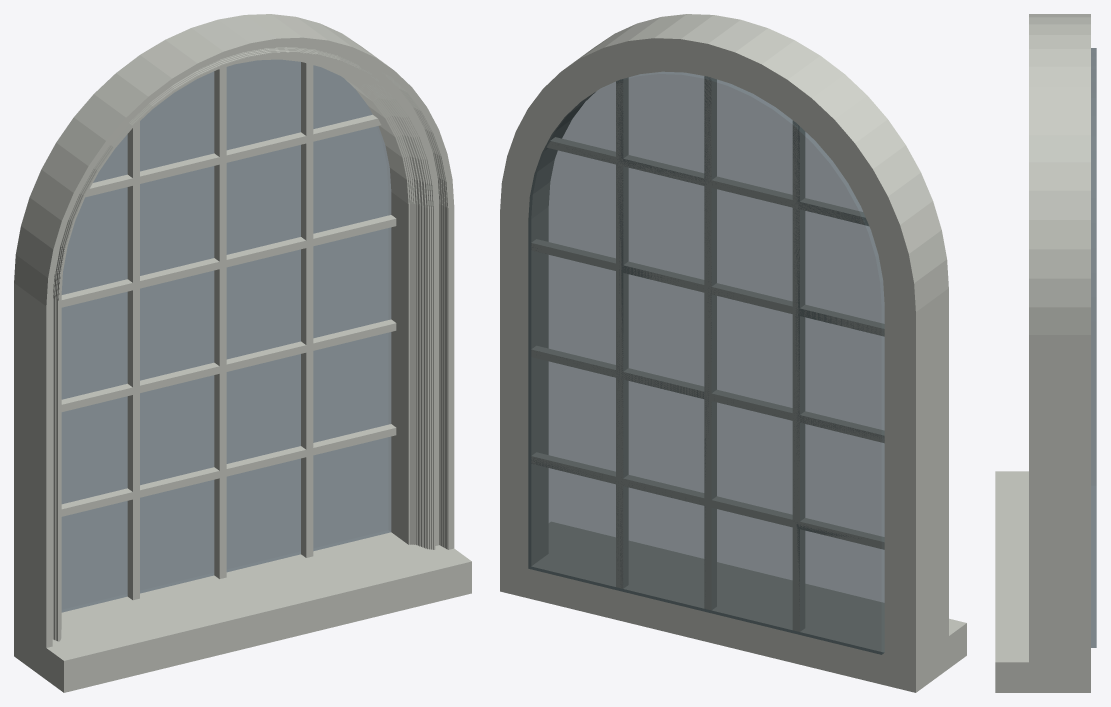
Rendered from republicano_arch.glb.
3 views of the same model, side by side, from view 1: azimuth 30°, elevation 25°; view 2: azimuth 150°, elevation 25°; view 3: azimuth 270°, elevation 25° (orthographic). The views are drawn at different scales.
Parts seen in each view (by area): view 1: window_glass#0001, window_mullion#0001, window_sill#0001, window_reveal#0001, window_profile#0028, window_profile#0001, window_profile#0025, window_profile#0026, window_profile#0027, window_profile#0012, window_profile#0009, window_profile#0013 (+20 smaller); view 2: window_glass#0001, window_reveal#0001, window_mullion#0001, window_profile#0028, window_sill#0001, window_profile#0001; view 3: window_profile#0028, window_reveal#0001, window_sill#0001, window_glass#0001.
Part boxes in pixels (box(x1,y1,x2,y2)): window_glass#0001: box(61, 59, 391, 612); window_mullion#0001: box(61, 62, 396, 600); window_sill#0001: box(23, 543, 471, 692); window_reveal#0001: box(14, 14, 404, 662); window_profile#0028: box(25, 22, 454, 679); window_profile#0001: box(61, 58, 409, 629); window_profile#0025: box(51, 42, 449, 646); window_profile#0026: box(49, 41, 451, 647); window_profile#0027: box(48, 39, 452, 647); window_profile#0012: box(58, 52, 434, 641); window_profile#0009: box(61, 55, 428, 638); window_profile#0013: box(57, 51, 435, 641); window_glass#0001: box(528, 71, 884, 654); window_reveal#0001: box(500, 28, 929, 692); window_mullion#0001: box(531, 76, 884, 631); window_profile#0028: box(576, 14, 948, 649); window_sill#0001: box(549, 522, 966, 685); window_profile#0001: box(543, 92, 884, 638); window_profile#0028: box(1029, 14, 1068, 692); window_reveal#0001: box(1065, 14, 1090, 692); window_sill#0001: box(995, 471, 1074, 692); window_glass#0001: box(1091, 48, 1096, 647).
Size of the model in its own units: 1.6 by 2.2 by 0.36.
